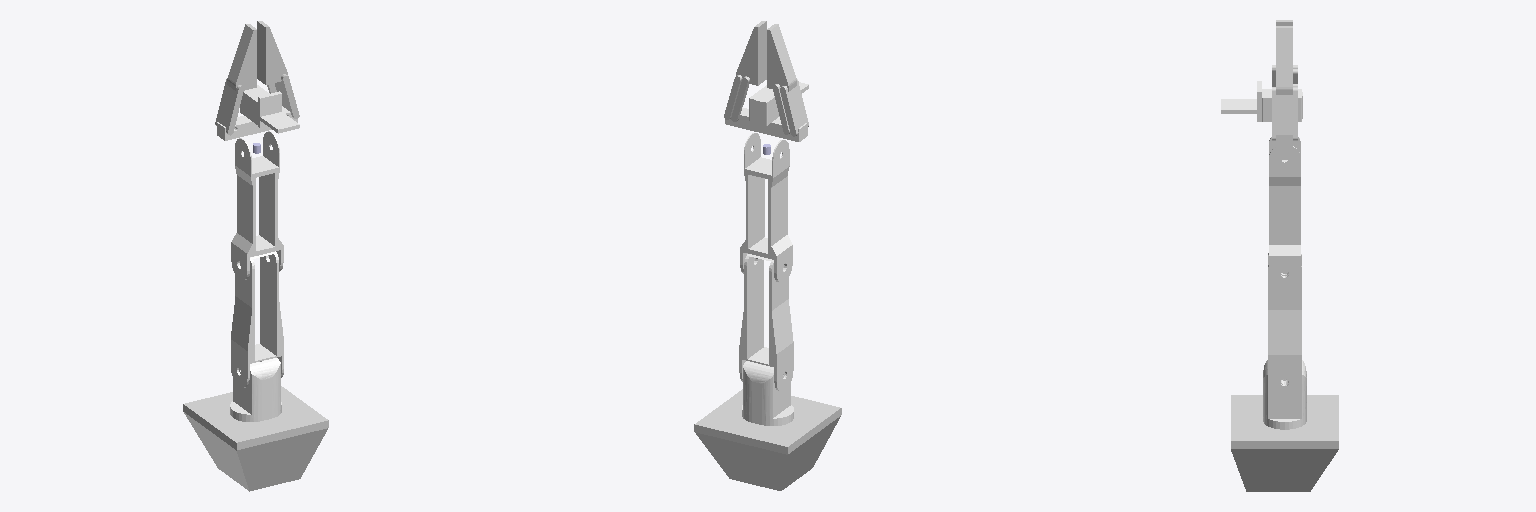
The robot description file, URDF, robot "armrobot_base":
<?xml version="1.0"?>
<robot name="armrobot_base">
    <link name="base_link">
        <visual name="armrobot_base">
            <origin rpy="0.000000 -1.570796 0.000000" xyz="0.063718 -0.064052 0.060225" />
            <geometry>
                <mesh filename="test07_robot_base_vis_1.dae" />
            </geometry>
            <material name="robot_base_material">
                <color rgba="0.900000 0.900000 0.900000 1.0" />
            </material>
        </visual>
    </link>
    <joint type="continuous" name="Revolute_joint">
        <axis xyz="0 0 1" />
        <parent link="base_link" />
        <child link="shoulder" />
        <origin rpy="-3.141593 3.141593 -3.141593" xyz="0.064000 -0.063000 0.115000" />
    </joint>
    <link name="shoulder">
        <visual name="shoulder">
            <origin rpy="-3.141593 3.141593 -3.141593" xyz="-0.064000 0.063000 -0.115000" />
            <geometry>
                <mesh filename="test07_shoulder_vis_1.dae" />
            </geometry>
            <material name="shoulder_material">
                <color rgba="1.000000 1.000000 1.000000 1.0" />
            </material>
        </visual>
    </link>
    <joint type="continuous" name="Revolute_joint_2">
        <axis xyz="0 0 1" />
        <parent link="shoulder" />
        <child link="upperarm" />
        <origin rpy="0.000000 1.570796 0.000000" xyz="0.002000 -0.001000 0.043000" />
    </joint>
    <link name="upperarm">
        <visual name="upperarm">
            <origin rpy="0.000000 -1.570796 0.000000" xyz="0.158000 0.064000 -0.066000" />
            <geometry>
                <mesh filename="test07_upperarm_vis_1.dae" />
            </geometry>
            <material name="upperarm_material">
                <color rgba="1.000000 1.000000 1.000000 1.0" />
            </material>
        </visual>
    </link>
    <joint type="continuous" name="Revolute_joint_3">
        <axis xyz="0 0 1" />
        <parent link="upperarm" />
        <child link="forearm" />
        <origin rpy="-3.141593 3.141593 -3.141593" xyz="-0.140000 0.000000 0.001000" />
    </joint>
    <link name="forearm">
        <visual name="forearm">
            <origin rpy="0.000000 -1.570796 0.000000" xyz="0.298000 0.064000 -0.067000" />
            <geometry>
                <mesh filename="test07_forearm_vis_1.dae" />
            </geometry>
            <material name="forearm_material">
                <color rgba="1.000000 1.000000 1.000000 1.0" />
            </material>
        </visual>
    </link>
    <joint type="continuous" name="Revolute_joint_4">
        <axis xyz="0 0 1" />
        <parent link="forearm" />
        <child link="Cylinder" />
        <origin rpy="-3.141593 3.141593 -3.141593" xyz="-0.145000 0.000000 -0.003000" />
    </joint>
    <link name="Cylinder">
        <visual name="Cylinder">
            <origin rpy="0.000000 -1.570796 0.000000" xyz="-0.003000 0.000000 0.001000" />
            <geometry>
                <cylinder length="0.01" radius="0.005" />
            </geometry>
            <material name="Cylinder_material">
                <color rgba="0.850000 0.850000 1.000000 1.0" />
            </material>
        </visual>
    </link>
    <joint type="continuous" name="Revolute_joint_5">
        <axis xyz="0 0 1" />
        <parent link="Cylinder" />
        <child link="frameandcameramount" />
        <origin rpy="0.000000 -1.570796 0.000000" xyz="0.018000 0.000000 0.001000" />
    </joint>
    <link name="frameandcameramount">
        <visual name="frameandcameramount">
            <origin rpy="-3.141593 3.141593 -3.141593" xyz="-0.065000 0.064000 -0.425000" />
            <geometry>
                <mesh filename="test07_frameandcameramount_vis_1.dae" />
            </geometry>
            <material name="frameandcameramount_material">
                <color rgba="1.000000 1.000000 1.000000 1.0" />
            </material>
        </visual>
    </link>
    <joint type="continuous" name="Revolute_joint_6">
        <axis xyz="0 0 1" />
        <parent link="frameandcameramount" />
        <child link="rightbottomouter" />
        <origin rpy="1.570796 3.141593 -3.141593" xyz="0.046000 0.001000 0.058000" />
    </joint>
    <link name="rightbottomouter">
        <visual name="rightbottomouter">
            <origin rpy="-1.570796 3.141595 2.872343" xyz="-0.007160 -0.026834 -0.001051" />
            <geometry>
                <mesh filename="test07_rightbottomouter_vis_1.dae" />
            </geometry>
            <material name="rightbottomouter_material">
                <color rgba="0.900000 0.900000 0.900000 1.0" />
            </material>
        </visual>
        <visual name="rightbottomouter">
            <origin rpy="-1.570796 3.141595 2.872343" xyz="-0.007160 -0.026834 -0.001051" />
            <geometry>
                <mesh filename="test07_rightbottomouter_vis_2.dae" />
            </geometry>
            <material name="rightbottomouter_material">
                <color rgba="0.900000 0.900000 0.900000 1.0" />
            </material>
        </visual>
        <visual name="rightbottomouter">
            <origin rpy="-1.570796 3.141595 2.872343" xyz="-0.007160 -0.026834 -0.001051" />
            <geometry>
                <mesh filename="test07_rightbottomouter_vis_3.dae" />
            </geometry>
            <material name="rightbottomouter_material">
                <color rgba="0.900000 0.900000 0.900000 1.0" />
            </material>
        </visual>
    </link>
    <joint type="continuous" name="Revolute_joint_7">
        <axis xyz="0 0 1" />
        <parent link="frameandcameramount" />
        <child link="leftfinger" />
        <origin rpy="1.570796 3.141593 -3.141593" xyz="-0.045000 0.001000 0.058000" />
    </joint>
    <link name="leftfinger">
        <visual name="leftfinger">
            <origin rpy="1.570796 -1.570796 0.000000" xyz="0.024911 -0.086343 -0.001051" />
            <geometry>
                <mesh filename="test07_leftfinger_vis_1.dae" />
            </geometry>
            <material name="leftfinger_material">
                <color rgba="0.900000 0.900000 0.900000 1.0" />
            </material>
        </visual>
        <visual name="leftfinger">
            <origin rpy="1.570796 -1.570796 0.000000" xyz="0.024911 -0.086343 -0.001051" />
            <geometry>
                <mesh filename="test07_leftfinger_vis_2.dae" />
            </geometry>
            <material name="leftfinger_material">
                <color rgba="0.900000 0.900000 0.900000 1.0" />
            </material>
        </visual>
        <visual name="leftfinger">
            <origin rpy="1.570796 -1.570796 0.000000" xyz="0.024911 -0.086343 -0.001051" />
            <geometry>
                <mesh filename="test07_leftfinger_vis_3.dae" />
            </geometry>
            <material name="leftfinger_material">
                <color rgba="0.900000 0.900000 0.900000 1.0" />
            </material>
        </visual>
    </link>
</robot>

--- Facts derived from the render (not from the file) ---
3 views of the same robot in one strip: view 1: azimuth 30°, elevation 25°; view 2: azimuth 150°, elevation 25°; view 3: azimuth 270°, elevation 25° (orthographic).
Robot: armrobot_base — 8 links, 7 joints (7 continuous); root link base_link; default pose: every joint at zero.
Visible links, largest first — view 1: base_link, forearm, upperarm, shoulder, frameandcameramount, leftfinger, rightbottomouter; view 2: base_link, forearm, upperarm, leftfinger, shoulder, rightbottomouter, frameandcameramount; view 3: base_link, forearm, upperarm, rightbottomouter, shoulder, frameandcameramount.
Boxes of the visible links, <box> form: base_link: <box>183,386,328,491</box>; forearm: <box>231,131,283,280</box>; upperarm: <box>231,251,283,387</box>; shoulder: <box>230,358,281,421</box>; frameandcameramount: <box>217,85,299,140</box>; leftfinger: <box>215,24,256,135</box>; rightbottomouter: <box>257,21,299,118</box>; base_link: <box>694,389,841,490</box>; forearm: <box>740,133,792,282</box>; upperarm: <box>739,254,793,391</box>; leftfinger: <box>767,24,808,136</box>; shoulder: <box>742,361,793,425</box>; rightbottomouter: <box>724,21,766,121</box>; frameandcameramount: <box>725,82,808,141</box>; base_link: <box>1231,395,1338,491</box>; forearm: <box>1269,137,1300,288</box>; upperarm: <box>1268,253,1301,397</box>; rightbottomouter: <box>1272,26,1297,140</box>; shoulder: <box>1263,360,1306,429</box>; frameandcameramount: <box>1221,81,1302,148</box>.
Size in the robot's own frame: 0.127 by 0.1385 by 0.5861 metres.
Meshes: 11 distinct files referenced, 11 mesh visuals loaded (11 Collada DAE).
